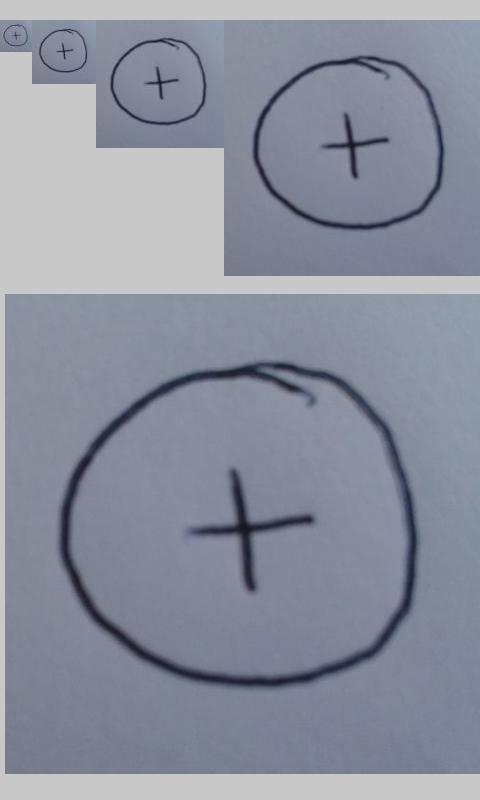button: (55, 359, 421, 689), (252, 55, 444, 231), (109, 37, 208, 126), (38, 28, 88, 73), (3, 24, 28, 47)
